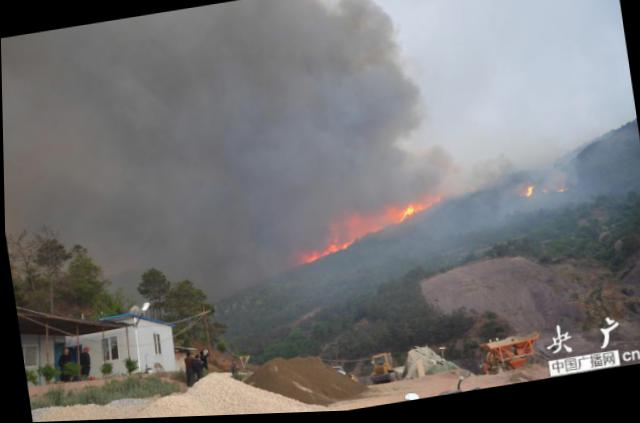fire: (391, 207, 416, 224), (412, 203, 430, 215), (301, 250, 316, 264), (318, 245, 337, 255), (338, 241, 350, 250), (524, 188, 533, 198)
